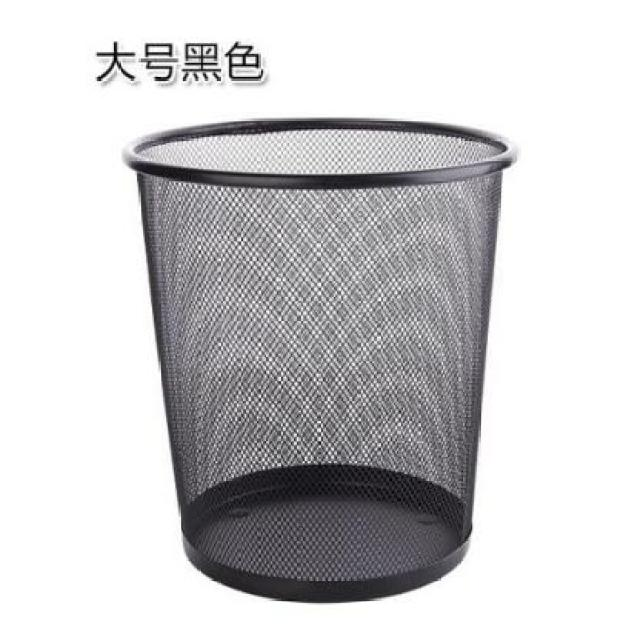dustbin: (120, 111, 522, 611)
